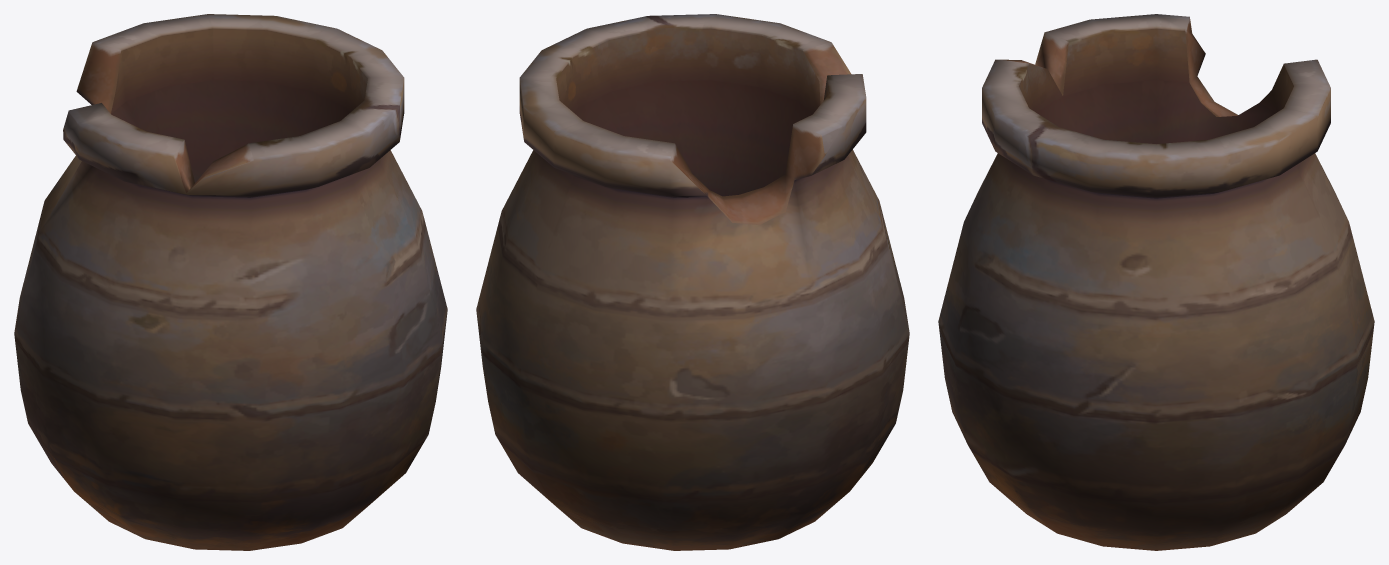
The model's file is SleepingGarden_jugful_02.fbx.
The picture shows the model from 3 angles, left to right: view 1: azimuth 30°, elevation 25°; view 2: azimuth 150°, elevation 25°; view 3: azimuth 270°, elevation 25°; orthographic projection.
Visible parts, largest first — view 1: SleepingGarden_jugful_02; view 2: SleepingGarden_jugful_02; view 3: SleepingGarden_jugful_02.
Part boxes in pixels (bbox=[...]): SleepingGarden_jugful_02: bbox=[14, 14, 447, 550]; SleepingGarden_jugful_02: bbox=[476, 14, 909, 550]; SleepingGarden_jugful_02: bbox=[938, 14, 1374, 550].
Bounding box in the file's own units: 0.8534 × 0.8756 × 0.8534.
Materials: 1 (1 with a texture image).
